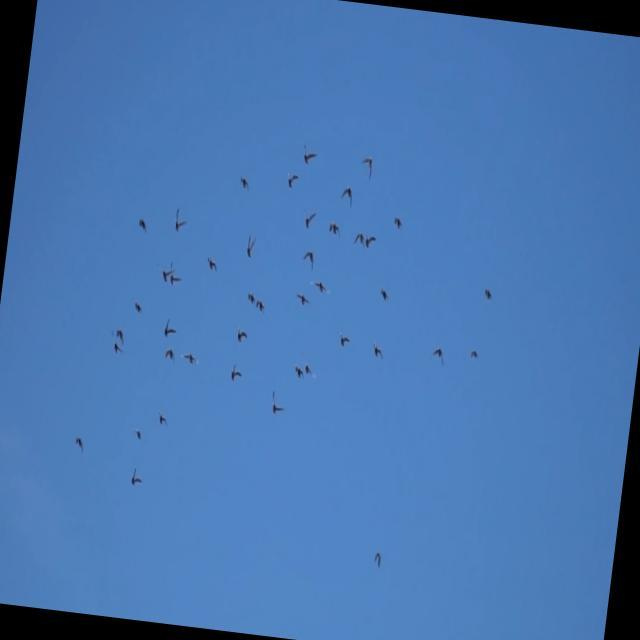bird: (268, 387, 288, 419), (164, 260, 185, 288), (300, 142, 319, 169), (309, 276, 332, 298), (171, 206, 189, 234), (326, 216, 344, 242), (161, 315, 178, 342), (300, 204, 317, 230), (128, 465, 145, 491), (178, 348, 199, 369), (243, 233, 258, 261), (229, 360, 245, 386), (360, 153, 375, 180), (430, 343, 446, 366), (284, 167, 299, 191), (157, 263, 174, 284), (300, 247, 316, 269), (362, 229, 378, 250), (369, 339, 384, 361), (233, 324, 248, 346), (340, 185, 354, 208), (293, 289, 309, 309), (389, 215, 404, 236), (301, 360, 316, 380), (71, 435, 86, 455), (293, 362, 306, 385), (136, 216, 150, 236), (155, 410, 170, 428), (253, 297, 267, 316), (109, 337, 124, 354), (482, 285, 495, 304), (238, 172, 250, 192), (351, 231, 364, 249), (338, 328, 351, 346), (114, 325, 127, 343), (372, 550, 383, 571), (205, 256, 219, 272), (245, 288, 256, 307), (163, 347, 175, 364), (131, 426, 143, 443), (378, 286, 389, 303), (132, 299, 144, 313), (469, 347, 479, 361)
